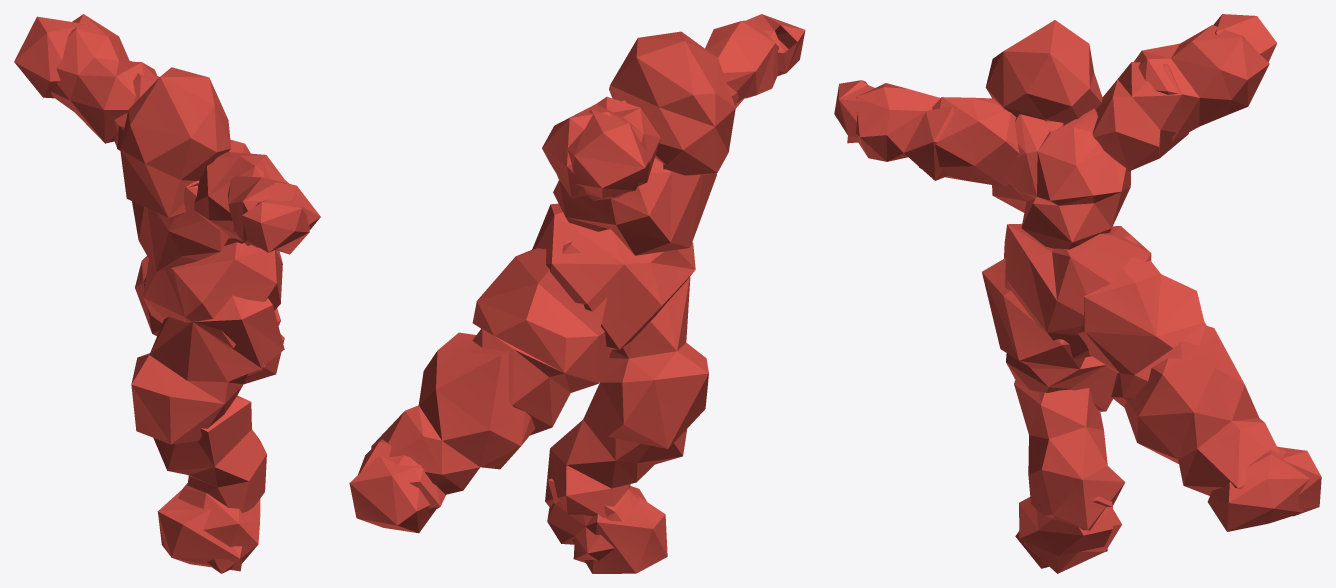
Rendered from dance_frames0357.obj.
3 views of the same model, side by side, from view 1: azimuth 30°, elevation 25°; view 2: azimuth 150°, elevation 25°; view 3: azimuth 270°, elevation 25° (orthographic). The views are drawn at different scales.
Parts seen in each view (by area): view 1: Beta_Surface; view 2: Beta_Surface; view 3: Beta_Surface.
Part boxes in pixels (box(x1,y1,x2,y2)): Beta_Surface: box(14, 14, 320, 573); Beta_Surface: box(349, 14, 805, 573); Beta_Surface: box(834, 14, 1321, 573).
Size of the model in its own units: 1.11 by 2.04 by 1.75.
